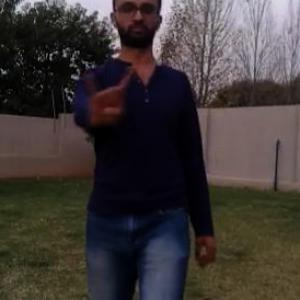takeoff-hand: (79, 56, 136, 121)
